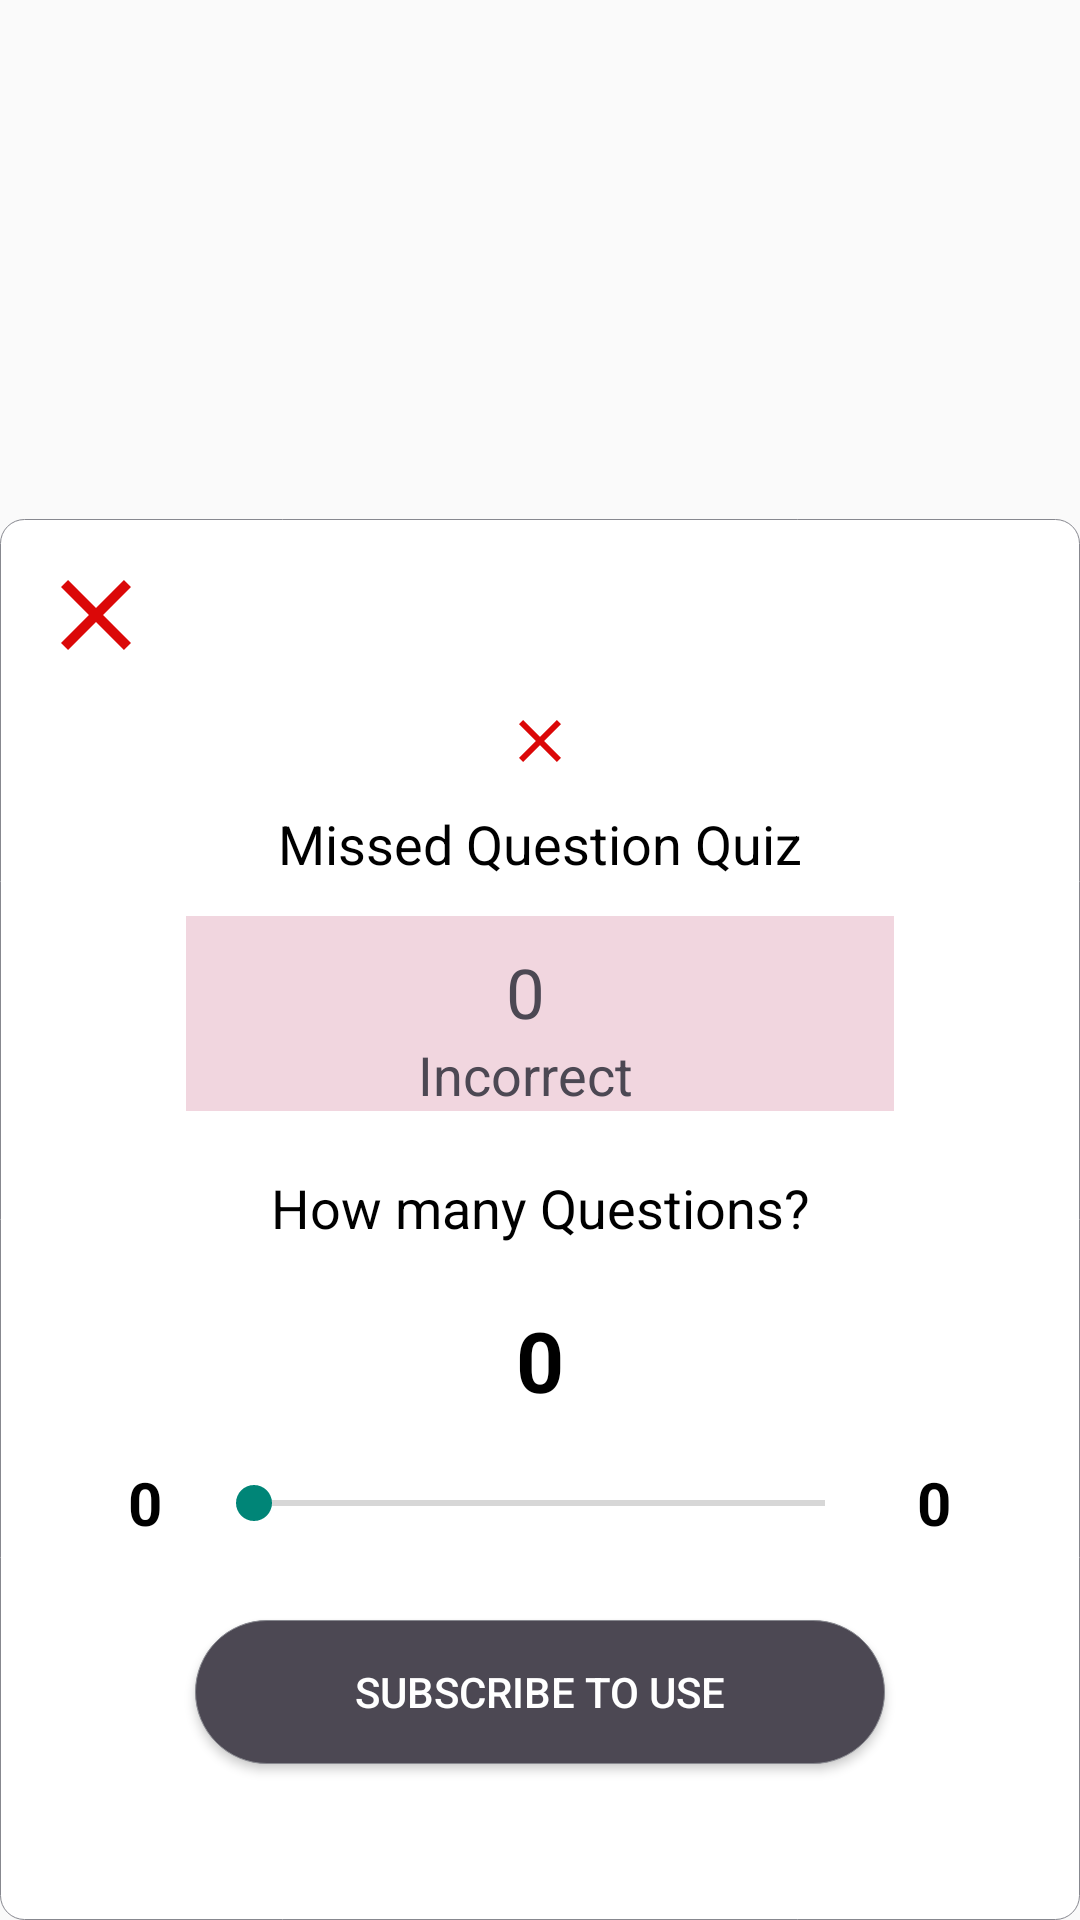

Point at icon controls on the screen. Image size 1080 x 1920, points as point (x, y).
close: point (96, 615), point (540, 741)
